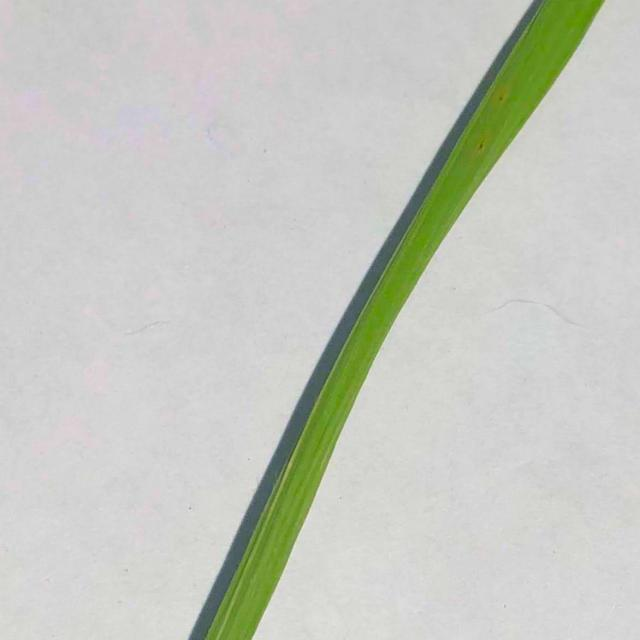brownspots: (486, 86, 512, 107), (472, 136, 491, 156)
